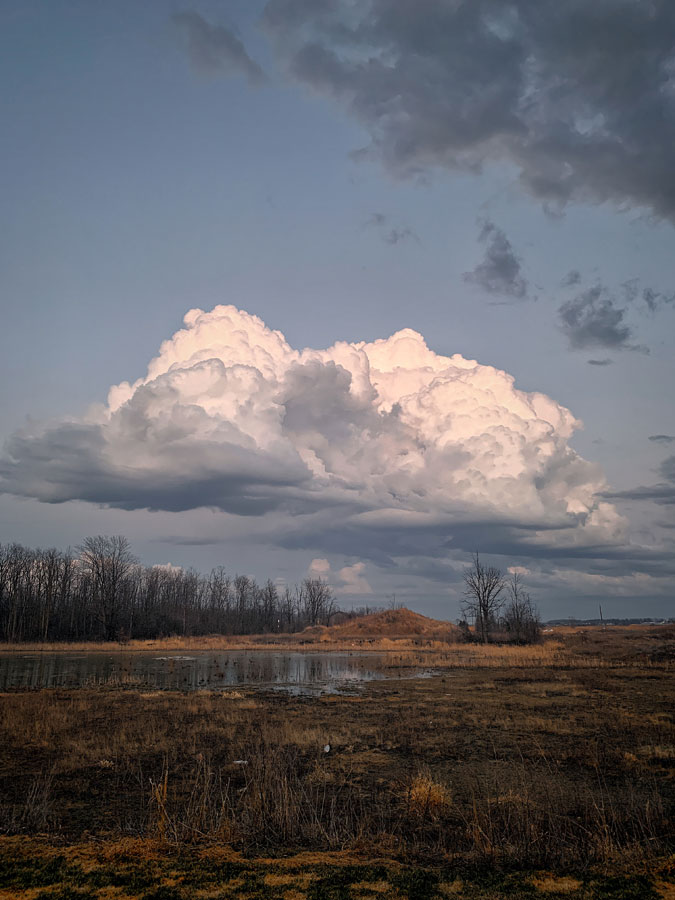Cumulus: (18, 264, 639, 558)
